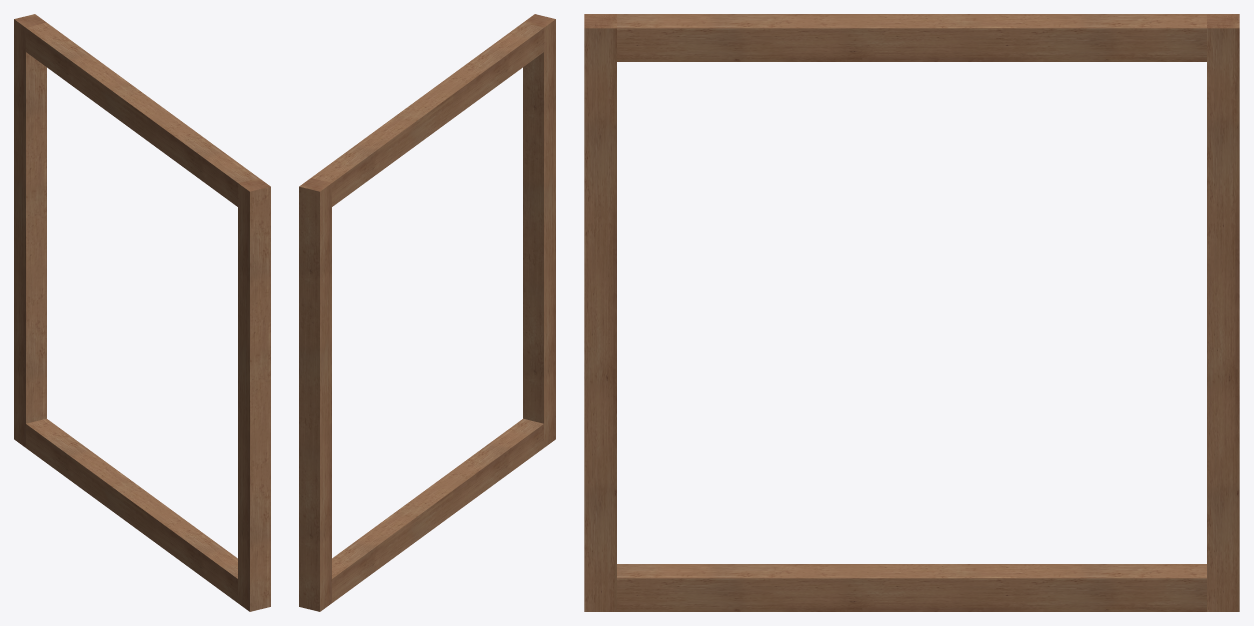
The model's file is SM_JSH_WoodframeB.fbx.
3 views of the same model, side by side, from view 1: azimuth 30°, elevation 25°; view 2: azimuth 150°, elevation 25°; view 3: azimuth 270°, elevation 25° (orthographic). The views are drawn at different scales.
Visible parts, largest first — view 1: SM_JSH_WoodframeB; view 2: SM_JSH_WoodframeB; view 3: SM_JSH_WoodframeB.
Part boxes in pixels (x1,y1,x2,y2): SM_JSH_WoodframeB: (14,14,270,611); SM_JSH_WoodframeB: (299,14,555,611); SM_JSH_WoodframeB: (584,14,1239,611).
Size of the model in its own units: 12 by 233 by 229.
Materials: 1 (1 with a texture image).
